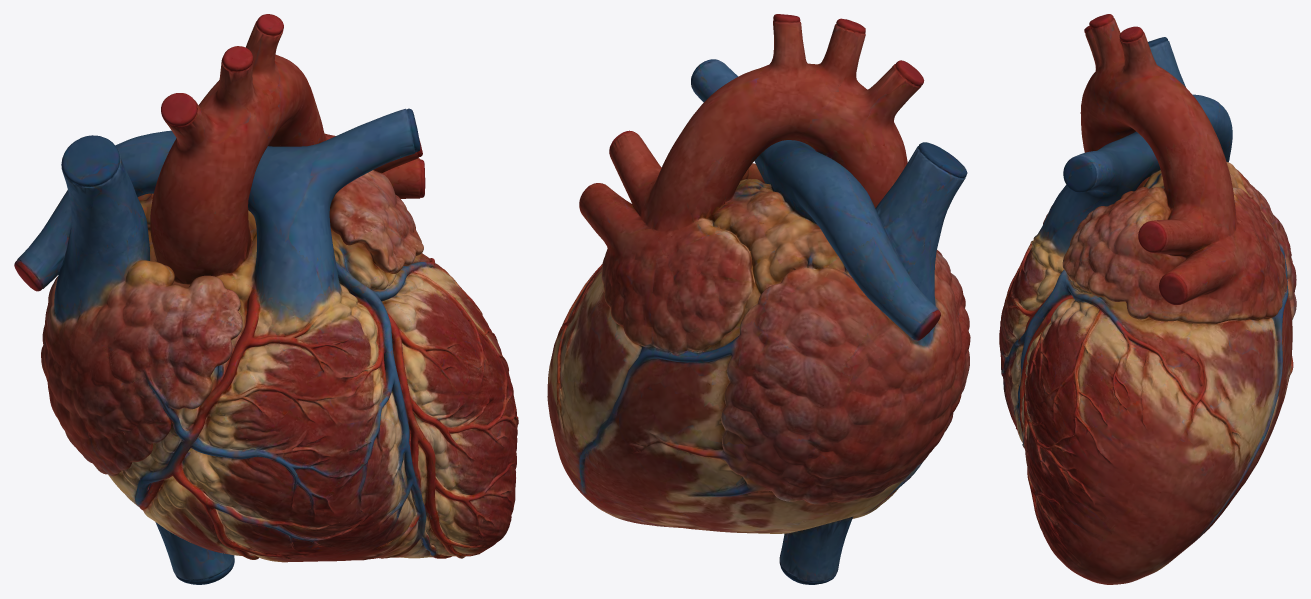
Rendered from heart.glb.
The picture shows the model from 3 angles, left to right: view 1: azimuth 30°, elevation 25°; view 2: azimuth 150°, elevation 25°; view 3: azimuth 270°, elevation 25°; orthographic projection. The views are drawn at different scales.
Parts seen in each view (by area): view 1: human-heart; view 2: human-heart; view 3: human-heart.
Part boxes in pixels (box(x1,y1,x2,y2)): human-heart: box(14, 14, 518, 584); human-heart: box(547, 14, 970, 584); human-heart: box(999, 14, 1296, 584).
Bounding box in the file's own units: 0.0984 × 0.1211 × 0.0687.
Materials: 1 (1 with a texture image).
